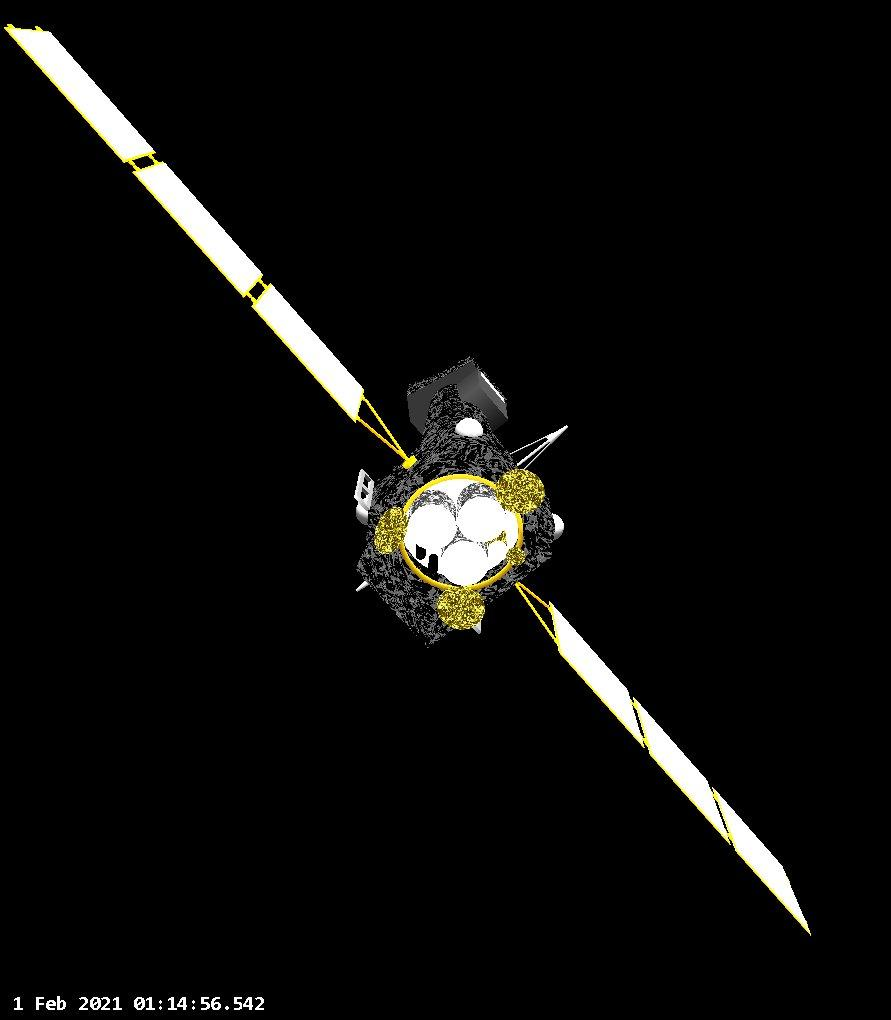antenna: (508, 420, 570, 472), (407, 502, 460, 552), (459, 495, 506, 543), (438, 539, 487, 584), (354, 573, 372, 593), (467, 615, 486, 633)
body: (354, 351, 568, 649)
solar: (3, 22, 418, 471), (510, 577, 814, 937)
